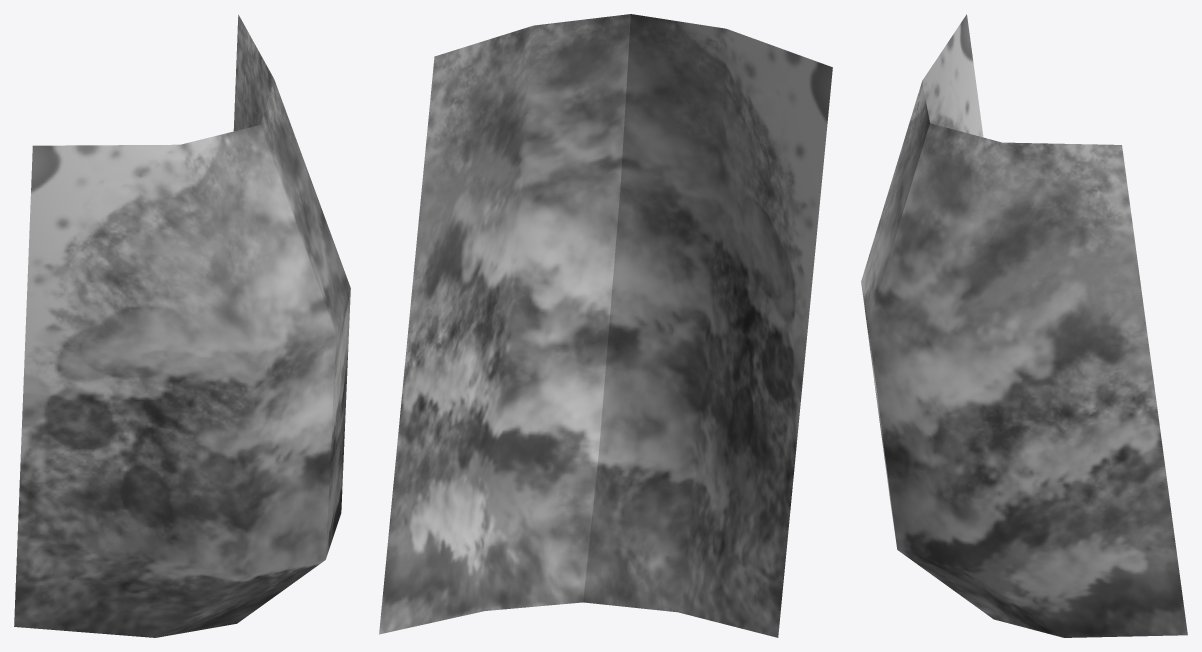
File: Storm_card_2.fbx
The picture shows the model from 3 angles, left to right: view 1: azimuth 30°, elevation 25°; view 2: azimuth 150°, elevation 25°; view 3: azimuth 270°, elevation 25°; orthographic projection. The views are drawn at different scales.
Visible parts, largest first — view 1: Storm_card_2; view 2: Storm_card_2; view 3: Storm_card_2.
Part boxes in pixels (x1,y1,x2,y2): Storm_card_2: [14, 14, 350, 637]; Storm_card_2: [379, 14, 832, 637]; Storm_card_2: [861, 14, 1187, 637].
Bounding box in the file's own units: 27.39 × 45.91 × 26.86.
